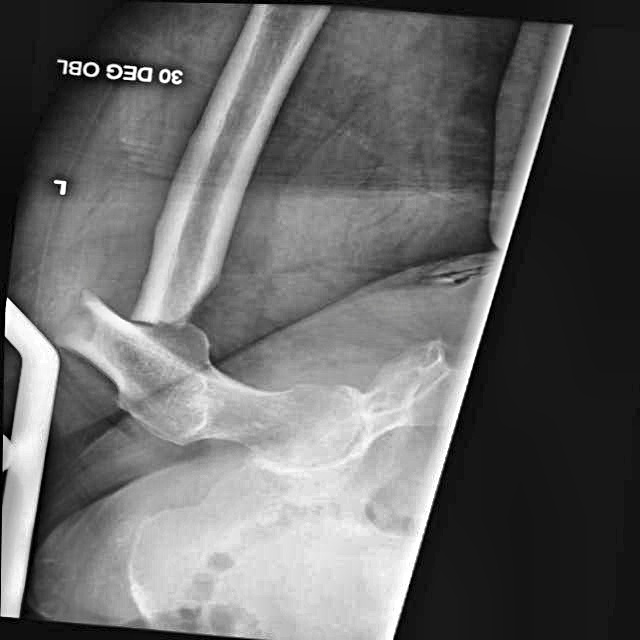Transverse: (44, 253, 225, 382)
